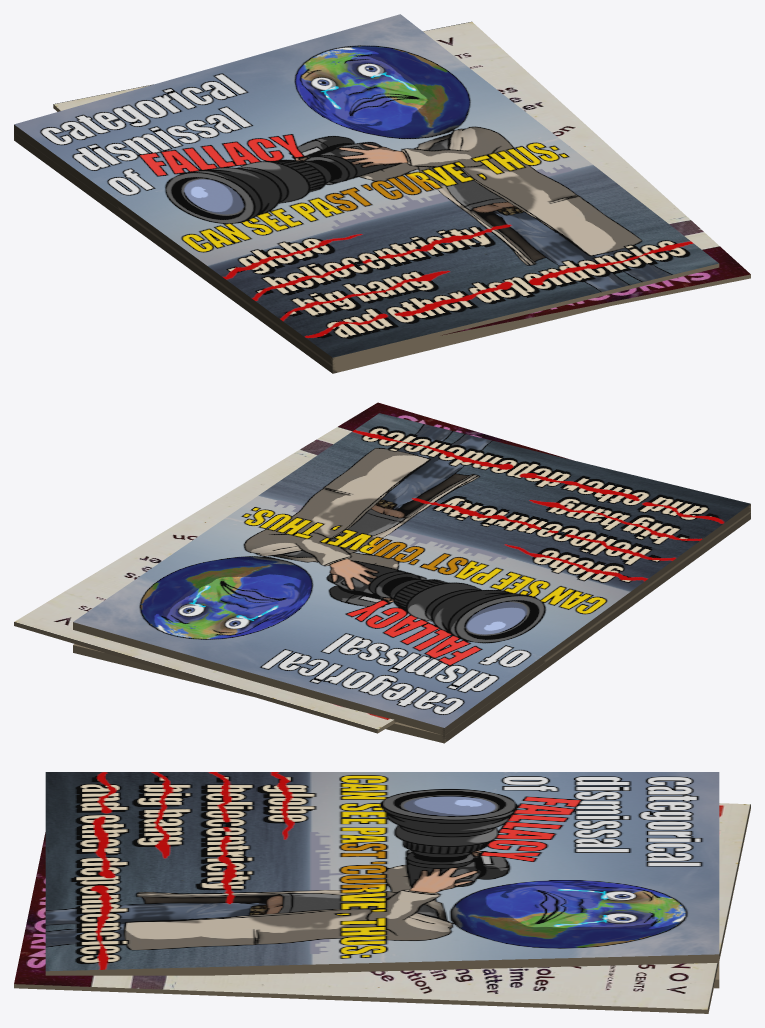
File: Files.gltf
The picture shows the model from 3 angles, top to bottom: view 1: azimuth 30°, elevation 25°; view 2: azimuth 150°, elevation 25°; view 3: azimuth 270°, elevation 25°; orthographic projection. The views are drawn at different scales.
Visible parts, largest first — view 1: Plane; view 2: Plane; view 3: Plane.
Boxes of the visible parts, x1,y1,x2,y2 form: Plane: (14, 14, 750, 373); Plane: (14, 402, 750, 743); Plane: (14, 772, 750, 1013).
Bounding box in the file's own units: 0.5906 × 0.0399 × 0.7878.
Materials: 1 (1 with a texture image).
